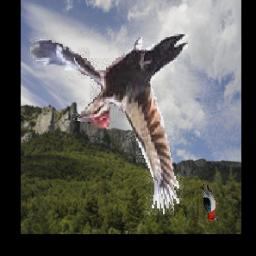Woodpecker: (29, 35, 187, 219), (202, 183, 219, 222)
